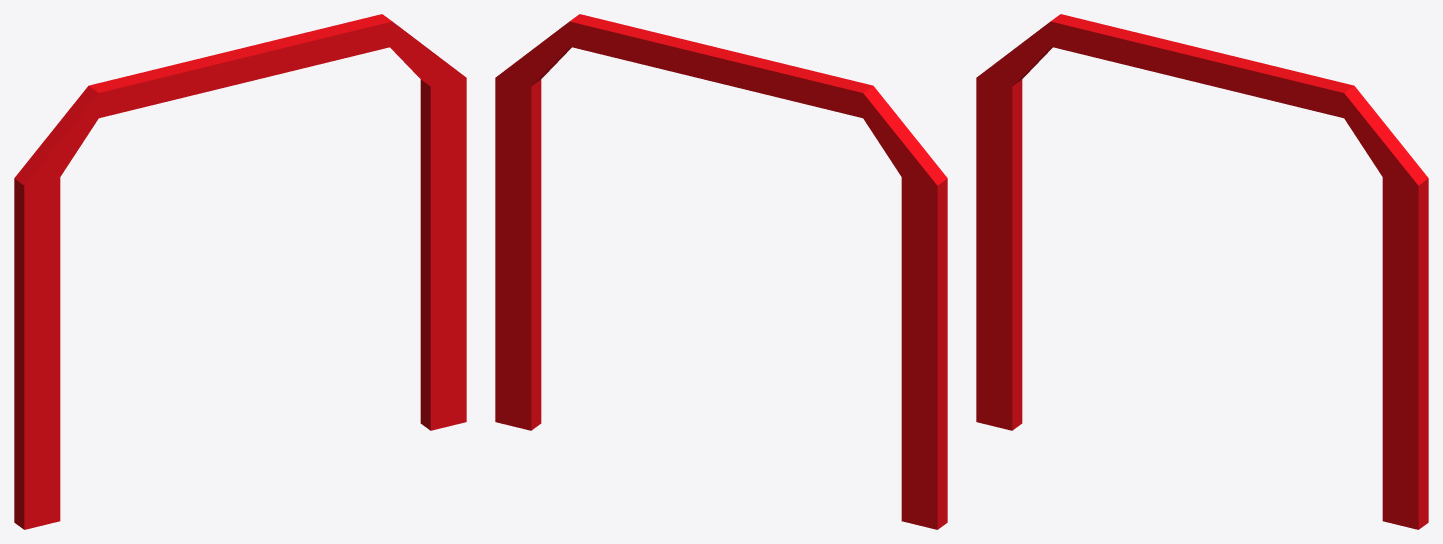
The model's file is MarcoPG.FBX.
3 views of the same model, side by side, from view 1: azimuth 30°, elevation 25°; view 2: azimuth 150°, elevation 25°; view 3: azimuth 330°, elevation 25° (orthographic).
Visible parts, largest first — view 1: G_MarcoPG; view 2: G_MarcoPG; view 3: G_MarcoPG.
Part boxes in pixels (x1,y1,x2,y2): G_MarcoPG: (14, 14, 466, 529); G_MarcoPG: (495, 14, 947, 529); G_MarcoPG: (976, 14, 1428, 529).
Bounding box in the file's own units: 31.73 × 28.7 × 1.27.
